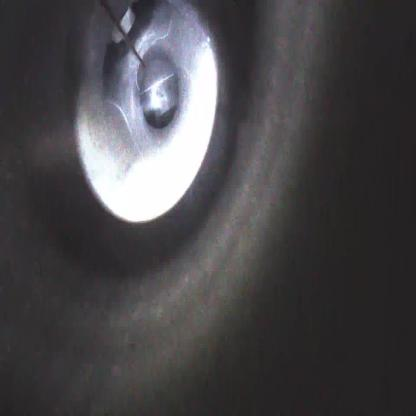NoCrack: (69, 1, 234, 225)
